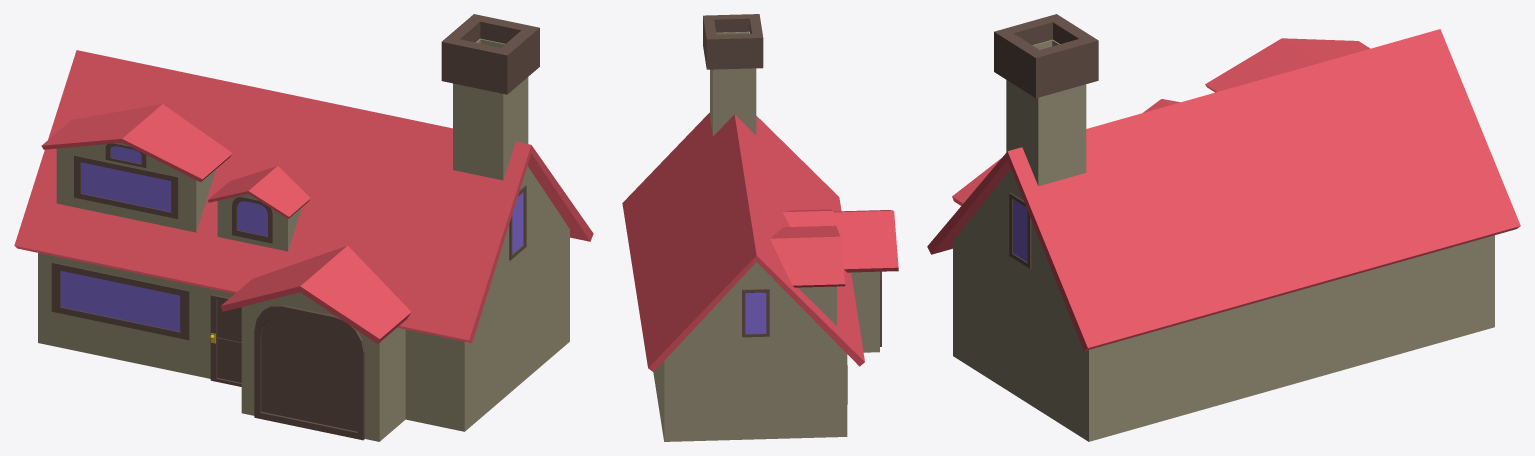
The model's file is CALLE8_CASA1_048.fbx.
3 renders of one model, left to right at view 1: azimuth 30°, elevation 25°; view 2: azimuth 150°, elevation 25°; view 3: azimuth 270°, elevation 25°, orthographic. The views are drawn at different scales.
Parts seen in each view (by area): view 1: CASA1.048; view 2: CASA1.048; view 3: CASA1.048.
Part boxes in pixels (x1=…): CASA1.048: x1=14, y1=14, x2=593, y2=441; CASA1.048: x1=622, y1=14, x2=898, y2=441; CASA1.048: x1=927, y1=14, x2=1520, y2=441.
Size of the model in its own units: 991 by 734 by 1110.
